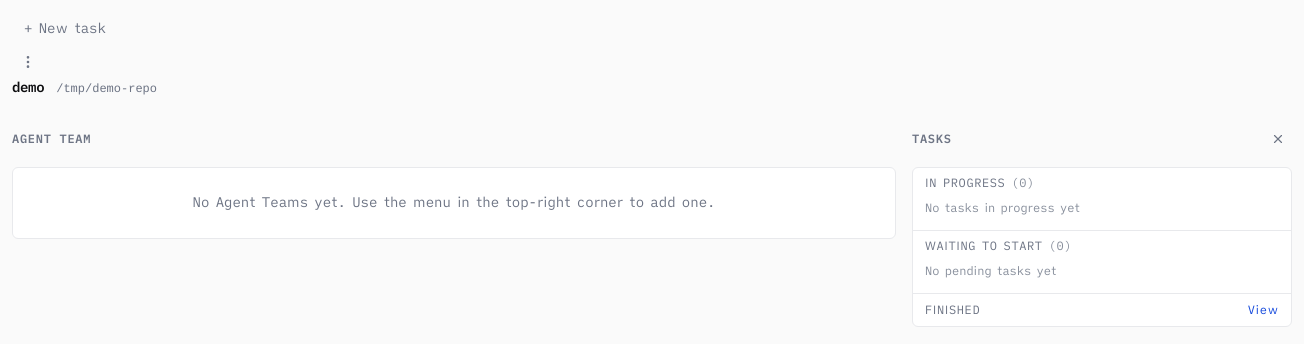
Project header actions › only sets aria-controls on the project three-dot menu while it is open
Click the button named "Project demo actions menu" at (28, 62), box 12,46 -> 44,78
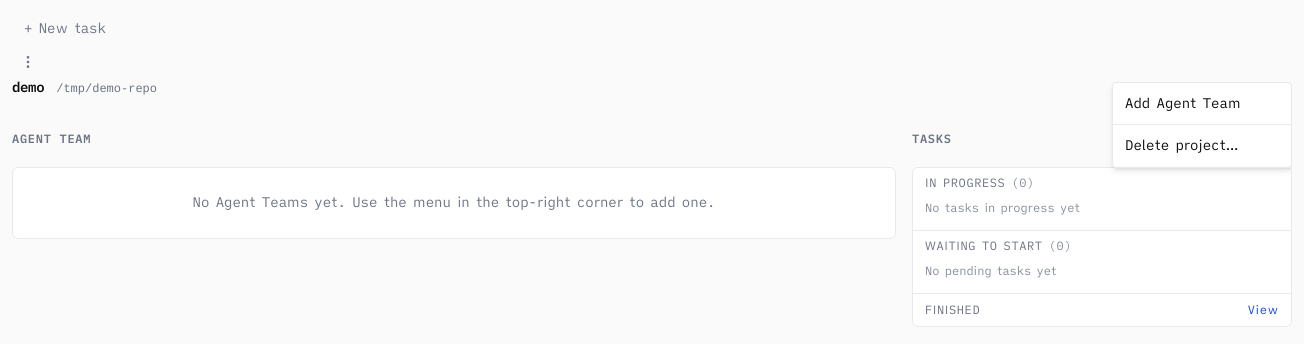
Press Escape
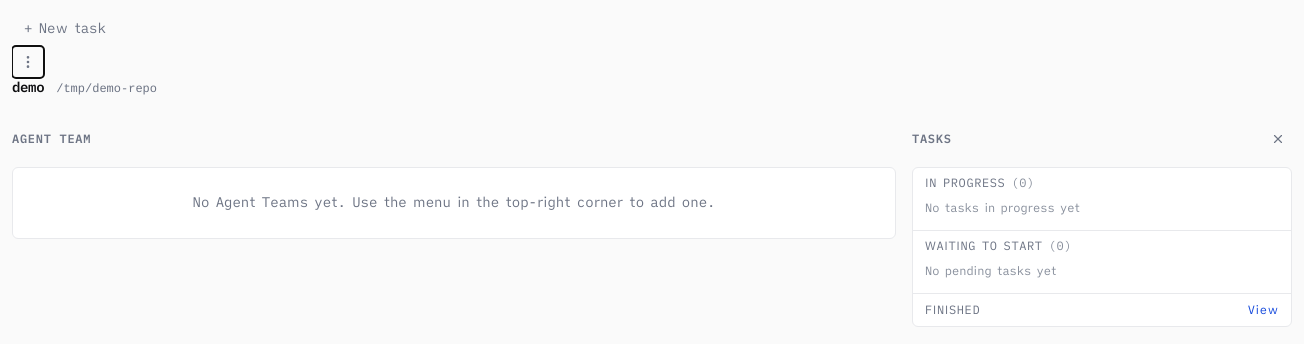
expect the menu is gone: met
